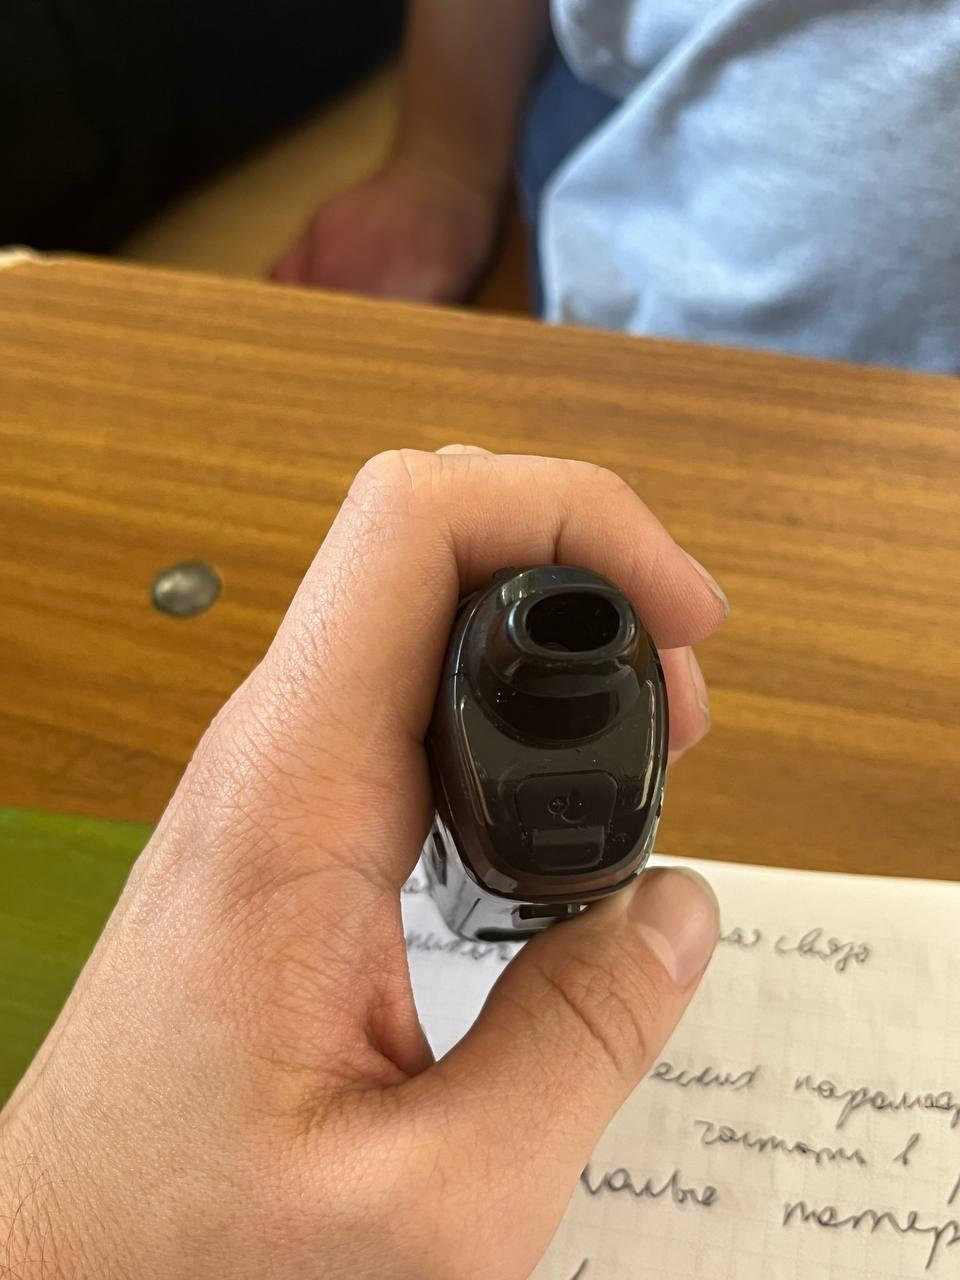Vape: (422, 566, 667, 941), (549, 745, 561, 750)
